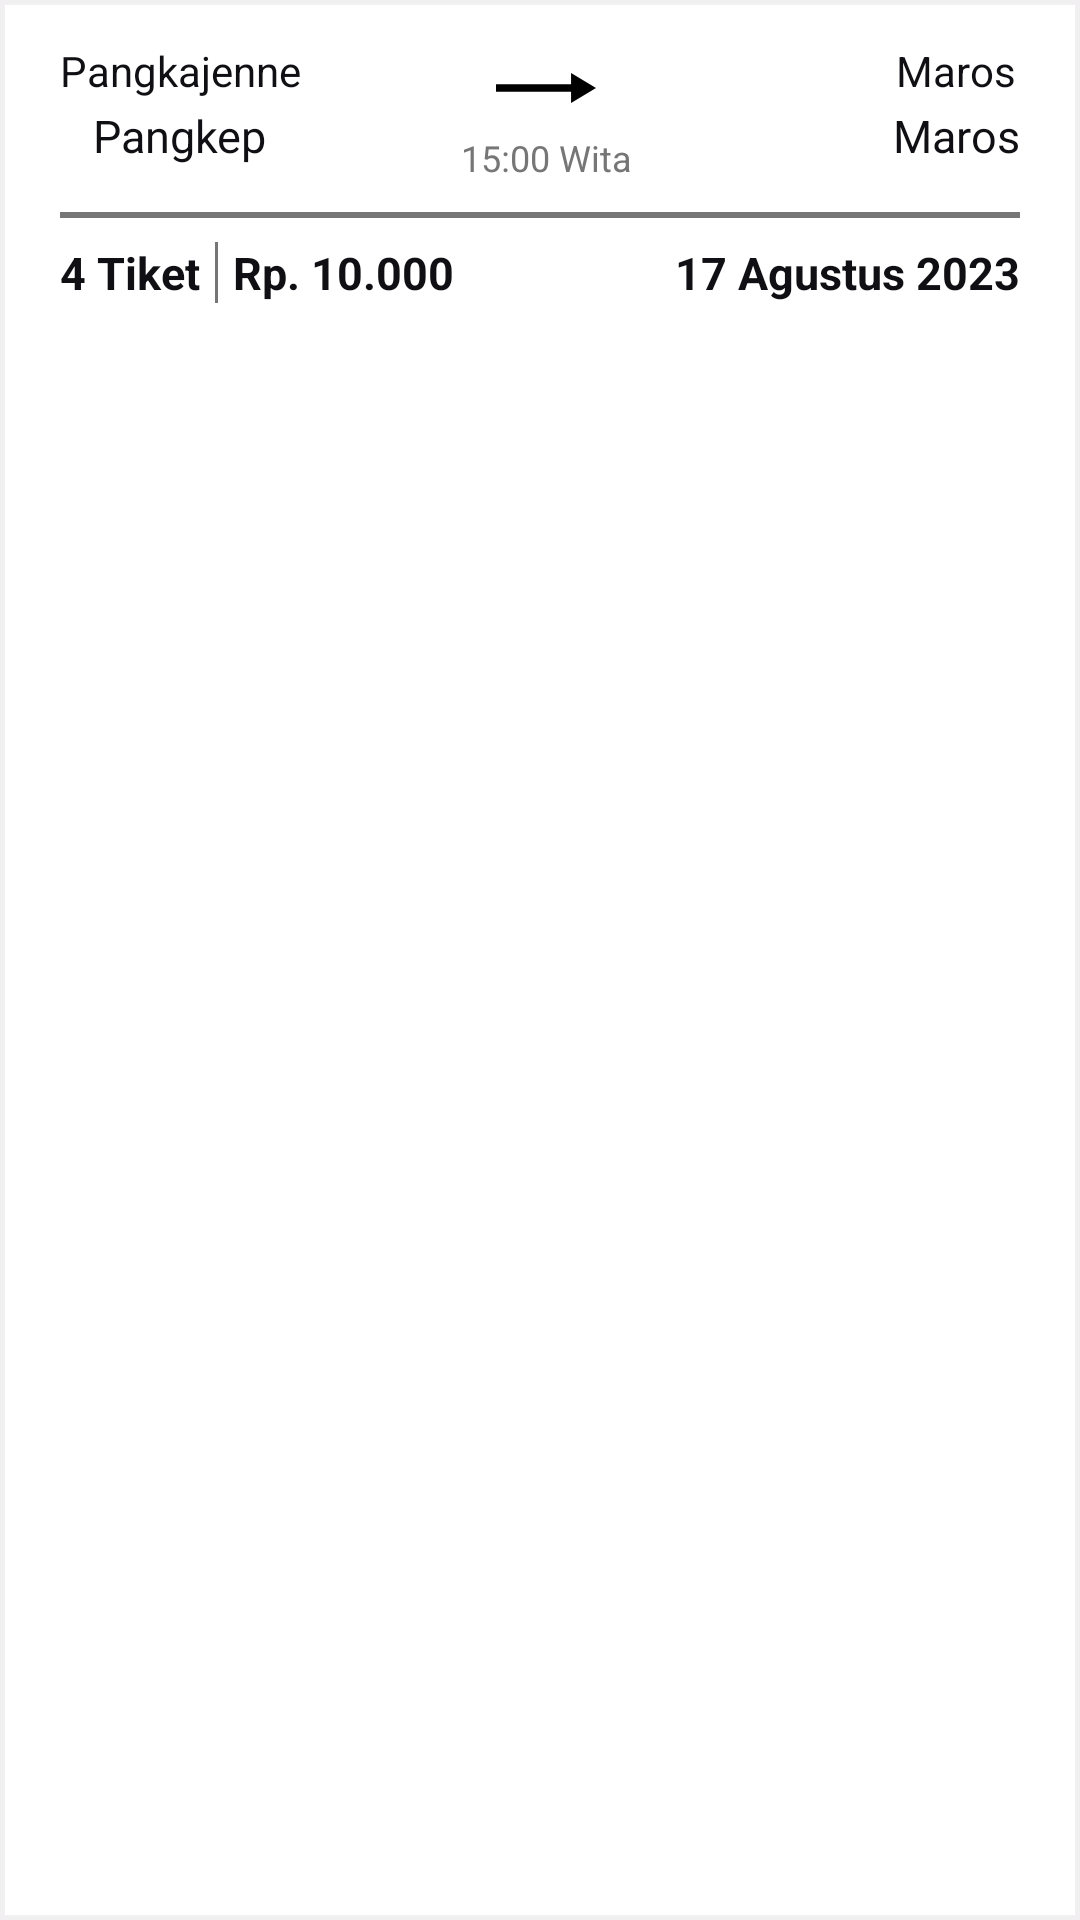

Icon click points for this 1080*1920 phone screenshot, format (x,y):
arrorw right: (546,88)
